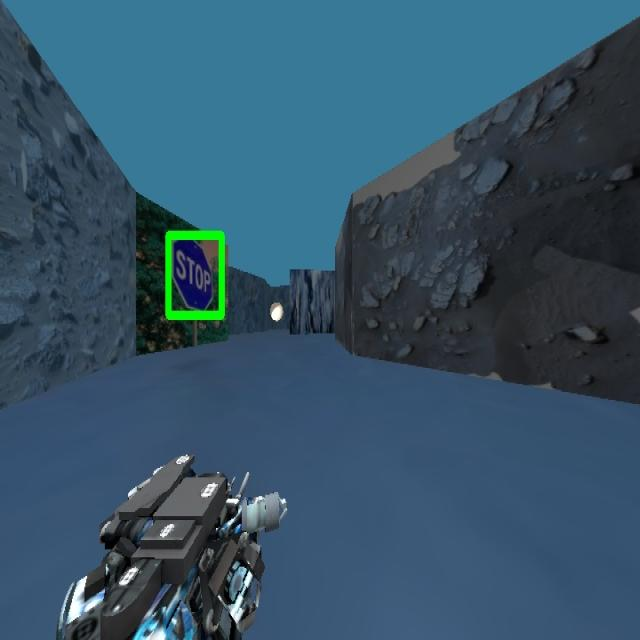Circle: (270, 300, 284, 321)
Stop_Sign: (164, 229, 227, 323)
